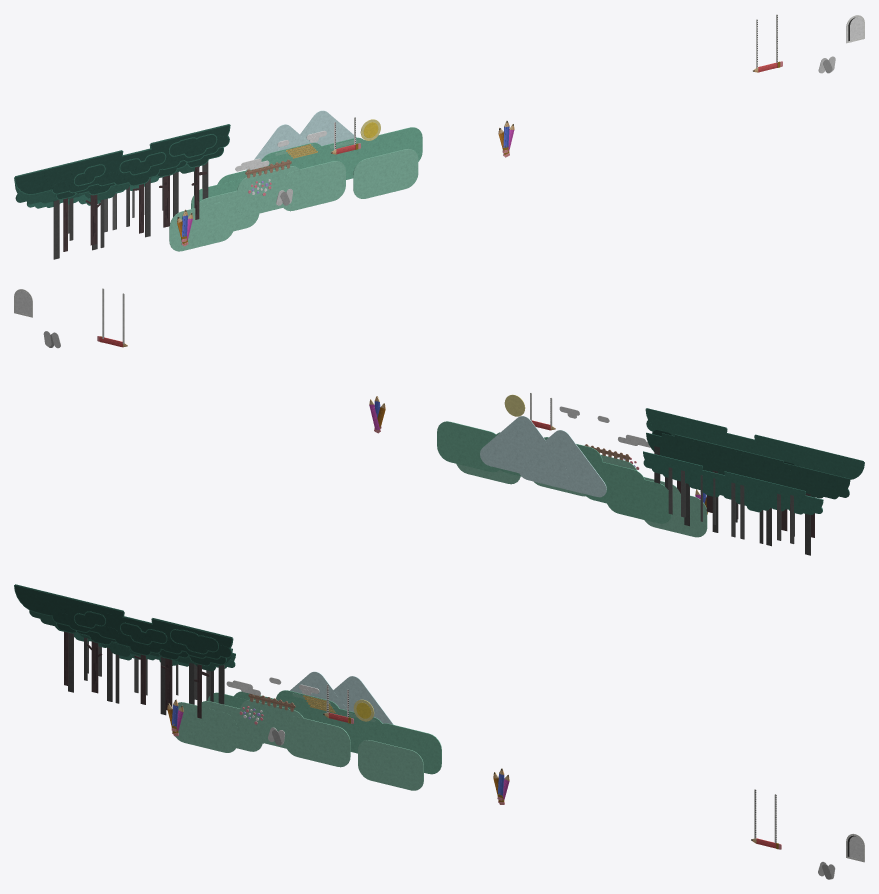
Rendered from decor_level2.glb.
The picture shows the model from 3 angles, top to bottom: view 1: azimuth 30°, elevation 25°; view 2: azimuth 150°, elevation 25°; view 3: azimuth 330°, elevation 25°; orthographic projection.
Parts seen in each view (by area): view 1: L2_laag8_heuvelsvoor_01.003, L2_laag8_boslaag_02.003, L2_laag9_heuvelsachter_01.003, L2_laag9_boslaag_02.003, L2_laag10_berg_01.003, L2_laag10_boslaag_03.003, L2_laag10_berg_02.003; view 2: L2_laag9_boslaag_02.003, L2_laag10_boslaag_03.003, L2_laag9_heuvelsachter_01.003, L2_laag8_boslaag_02.003, L2_laag10_berg_01.003, L2_laag8_heuvelsvoor_01.003, L2_laag10_berg_02.003; view 3: L2_laag8_heuvelsvoor_01.003, L2_laag8_boslaag_02.003, L2_laag9_heuvelsachter_01.003, L2_laag9_boslaag_02.003, L2_laag10_boslaag_03.003, L2_laag10_berg_01.003, L2_laag10_berg_02.003.
Part boxes in pixels (<box>): L2_laag8_heuvelsvoor_01.003: <box>169,149,418,251</box>; L2_laag8_boslaag_02.003: <box>14,124,230,251</box>; L2_laag9_heuvelsachter_01.003: <box>191,127,422,208</box>; L2_laag9_boslaag_02.003: <box>15,161,208,259</box>; L2_laag10_berg_01.003: <box>300,110,356,145</box>; L2_laag10_boslaag_03.003: <box>27,176,163,233</box>; L2_laag10_berg_02.003: <box>246,124,309,170</box>; L2_laag9_boslaag_02.003: <box>646,432,850,555</box>; L2_laag10_boslaag_03.003: <box>643,451,823,543</box>; L2_laag9_heuvelsachter_01.003: <box>437,421,671,523</box>; L2_laag8_boslaag_02.003: <box>645,408,864,537</box>; L2_laag10_berg_01.003: <box>480,416,568,482</box>; L2_laag8_heuvelsvoor_01.003: <box>456,454,707,537</box>; L2_laag10_berg_02.003: <box>519,430,606,497</box>; L2_laag8_heuvelsvoor_01.003: <box>172,699,423,790</box>; L2_laag8_boslaag_02.003: <box>14,584,233,718</box>; L2_laag9_heuvelsachter_01.003: <box>207,690,441,774</box>; L2_laag9_boslaag_02.003: <box>29,610,232,715</box>; L2_laag10_boslaag_03.003: <box>58,629,235,700</box>; L2_laag10_berg_01.003: <box>333,676,393,724</box>; L2_laag10_berg_02.003: <box>290,671,346,710</box>.
Size of the model in its own units: 101 by 13.19 by 4.33.
Materials: 46 (46 with a texture image).
